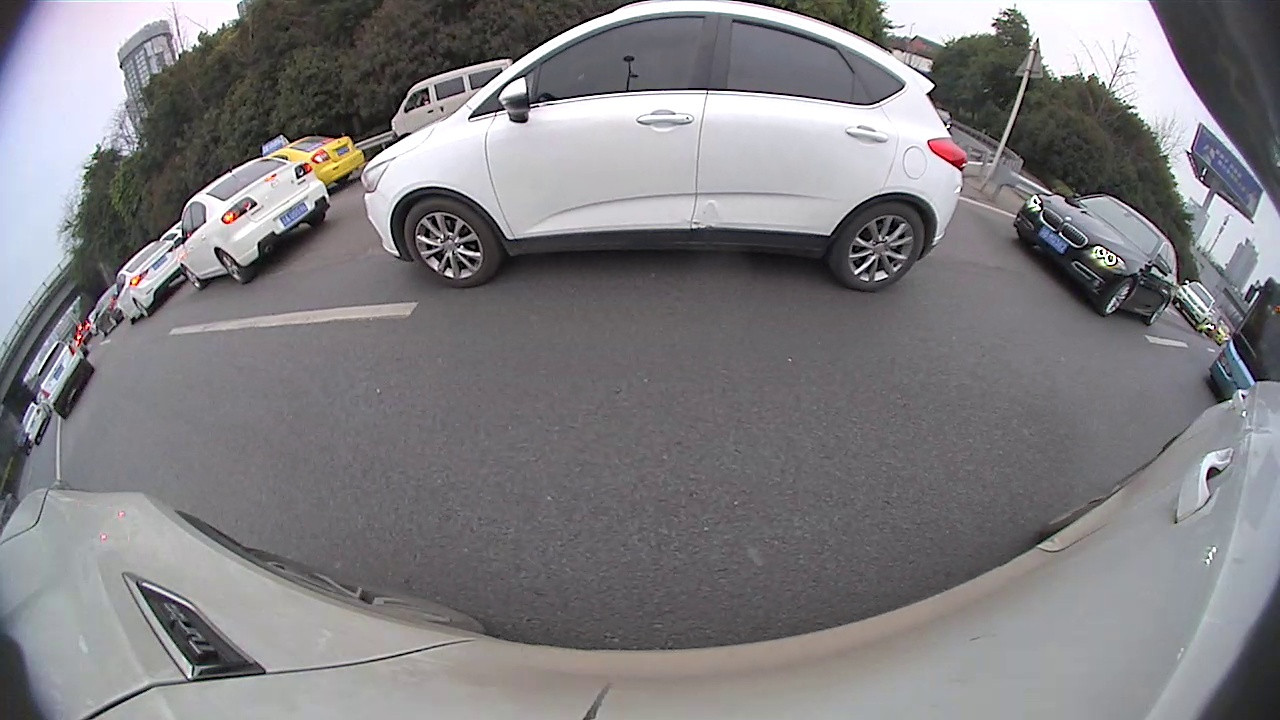car: (357, 3, 972, 292), (1010, 188, 1179, 327), (175, 155, 333, 292), (385, 55, 520, 145), (258, 132, 367, 193), (111, 235, 184, 326), (29, 338, 97, 418), (1175, 278, 1220, 330)
front: (400, 193, 506, 292), (1095, 275, 1136, 321), (181, 265, 206, 294)
rear: (829, 202, 929, 294), (217, 248, 250, 286), (1145, 297, 1170, 326)
